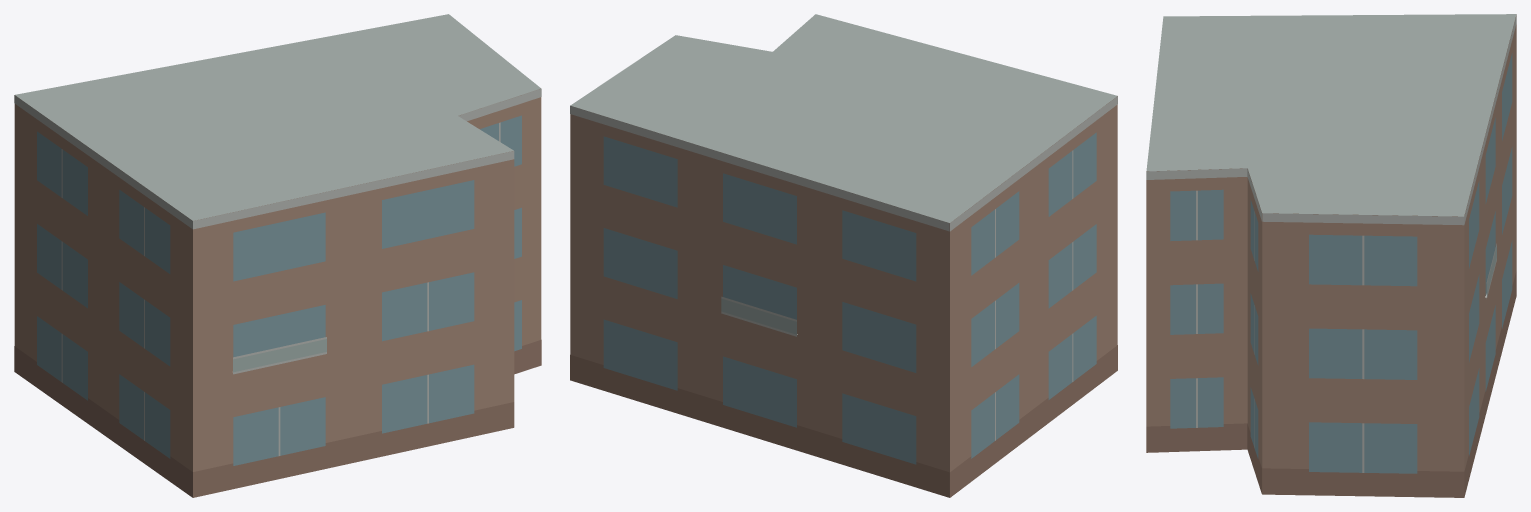
Rendered from survey-upis-32639644.glb.
3 renders of one model, left to right at view 1: azimuth 30°, elevation 25°; view 2: azimuth 150°, elevation 25°; view 3: azimuth 270°, elevation 25°, orthographic. The views are drawn at different scales.
Visible parts, largest first — view 1: survey-upis-32639644.tmp; view 2: survey-upis-32639644.tmp; view 3: survey-upis-32639644.tmp.
Boxes of the visible parts, bbox=[...] form: survey-upis-32639644.tmp: bbox=[14, 14, 541, 497]; survey-upis-32639644.tmp: bbox=[570, 14, 1117, 497]; survey-upis-32639644.tmp: bbox=[1146, 14, 1516, 497].
Size of the model in its own units: 12.29 by 7.95 by 9.49.
